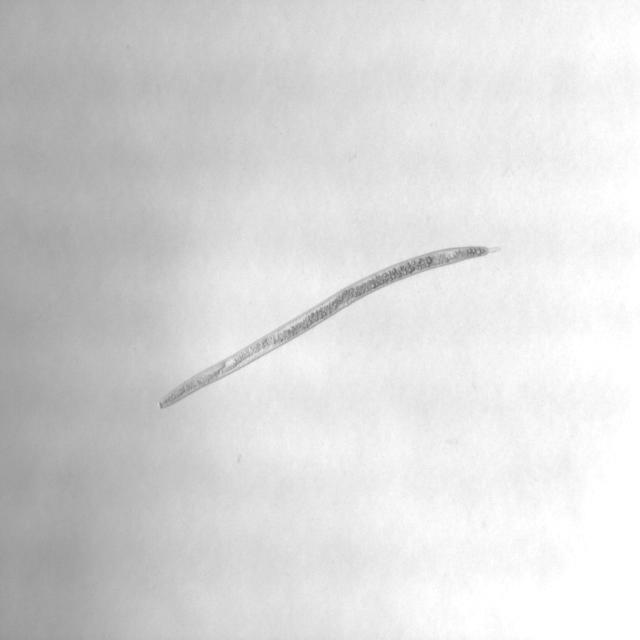Radopholus: (156, 234, 514, 412)
